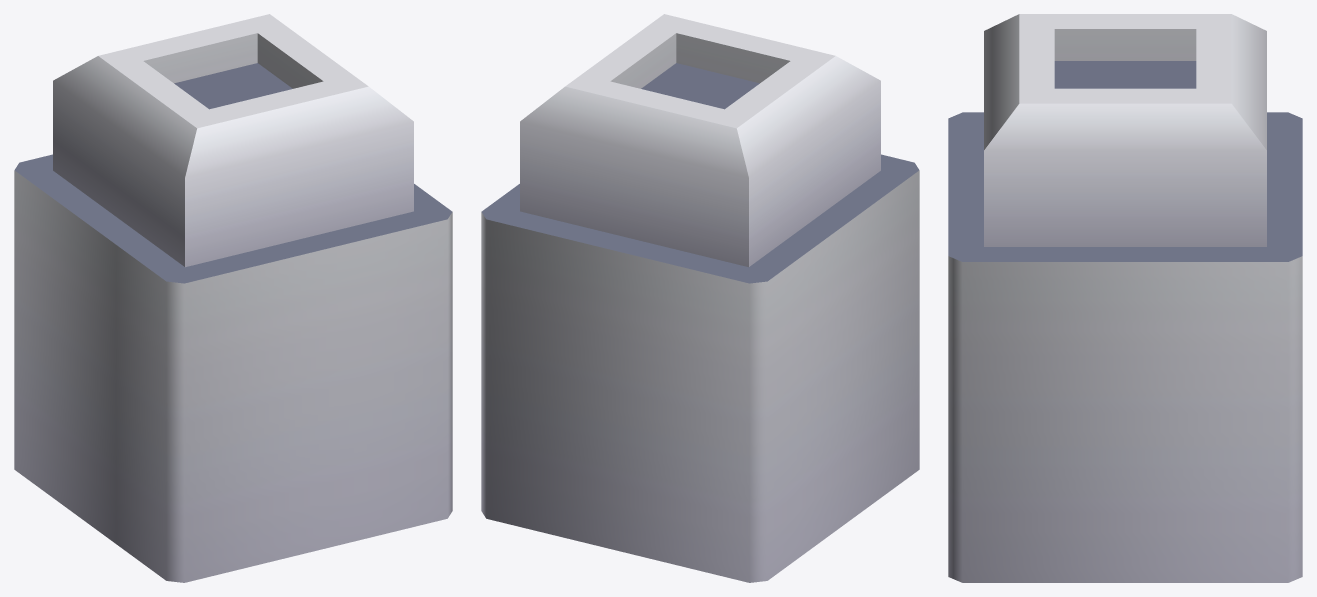
File: low-detail-building-n.glb
3 renders of one model, left to right at view 1: azimuth 30°, elevation 25°; view 2: azimuth 150°, elevation 25°; view 3: azimuth 270°, elevation 25°, orthographic. The views are drawn at different scales.
Parts seen in each view (by area): view 1: low-detail-building-n; view 2: low-detail-building-n; view 3: low-detail-building-n.
Part boxes in pixels (box(x1,y1,x2,y2)): low-detail-building-n: box(14, 14, 452, 582); low-detail-building-n: box(481, 14, 919, 582); low-detail-building-n: box(948, 14, 1302, 582).
Size of the model in its own units: 0.5 by 0.7 by 0.5.
1 material, 1 textured.
